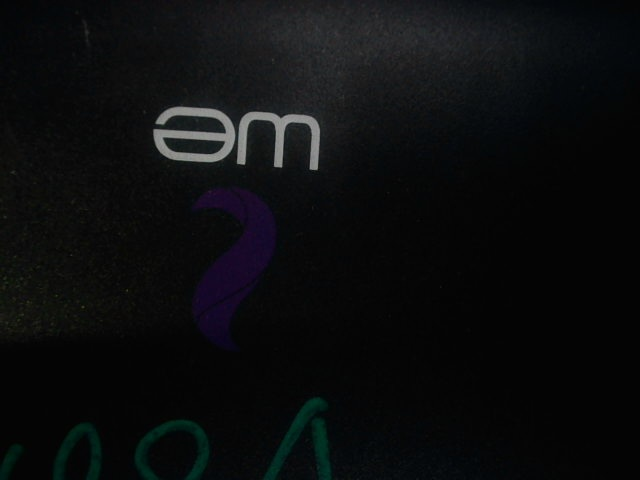AT_We: (136, 99, 325, 354)
